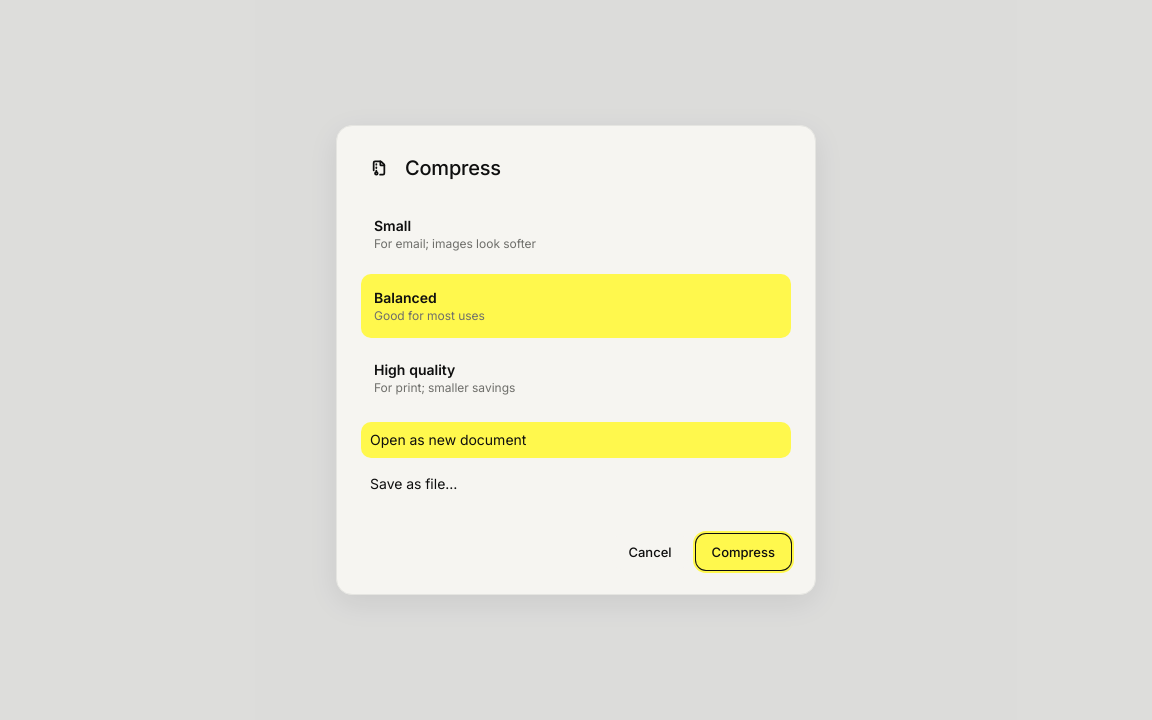
it: the compress dialog › says so when the result is not smaller and opens nothing
What coordinates should you click on to do the following:
click the button "Compress"
I would click on:
 (743, 552)
Its box is left=696, top=534, right=791, bottom=570.
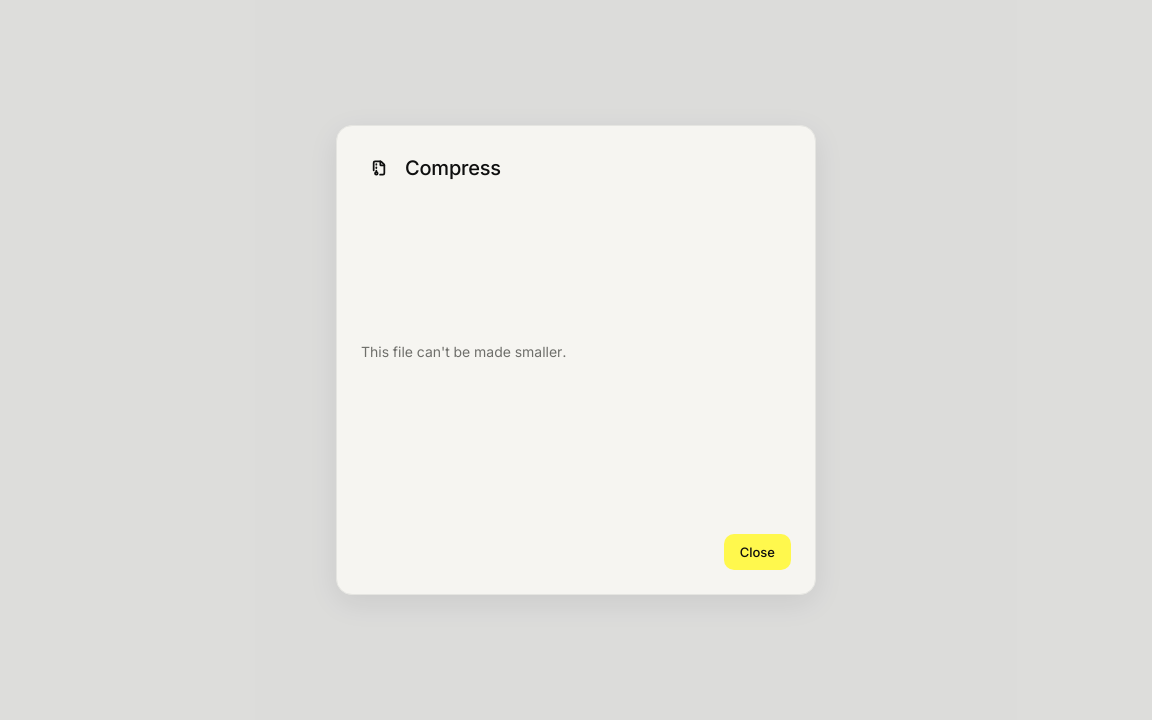
Now the text "This file can't be made smaller." is shown, box left=361, top=343, right=566, bottom=360
